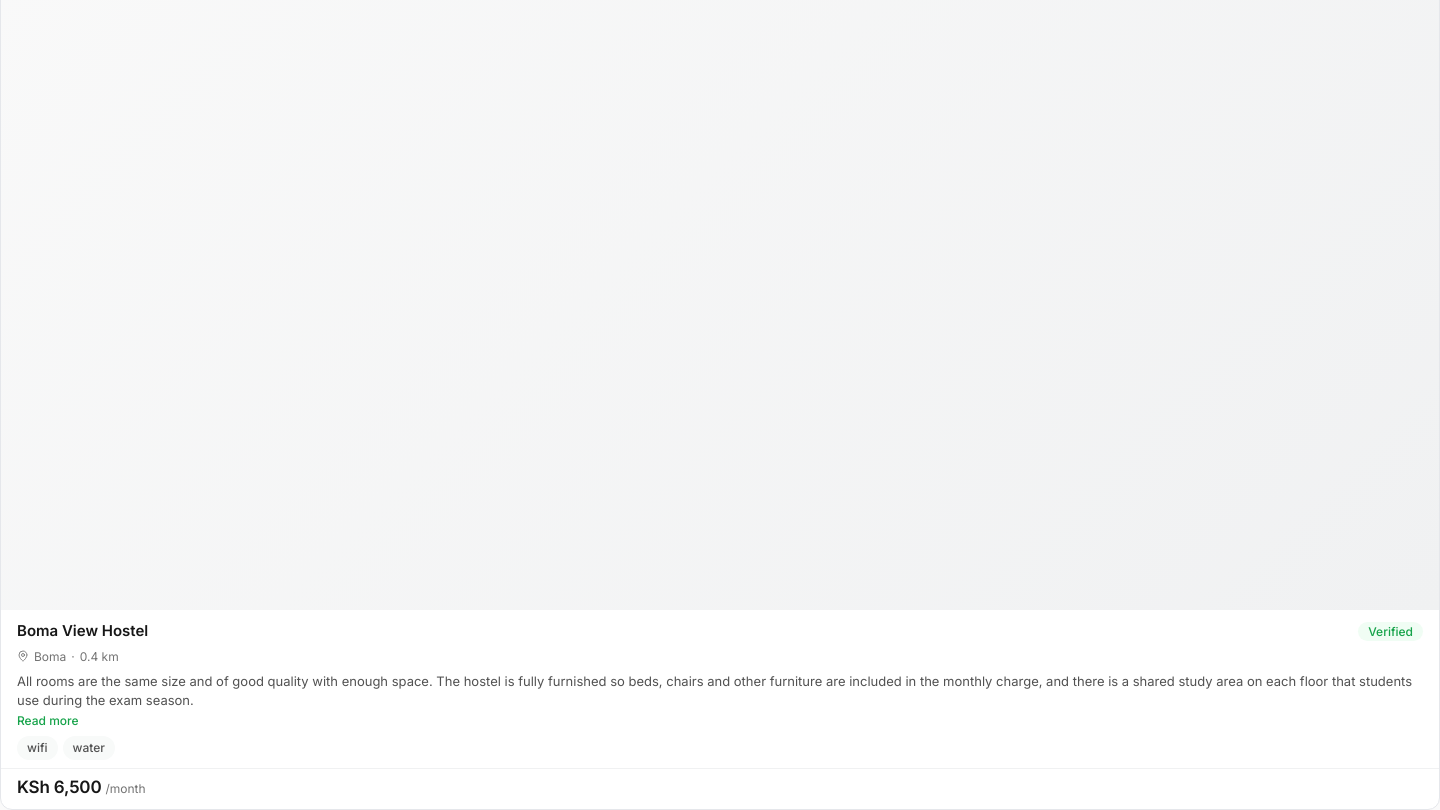
Test: HostelCard › collapses a long description behind a read-more toggle
(page scrolled)
What coordinates should you click on to do the following:
click the button "Read more"
I would click on:
 (48, 721)
Its box is x1=17 y1=713 x2=79 y2=728.
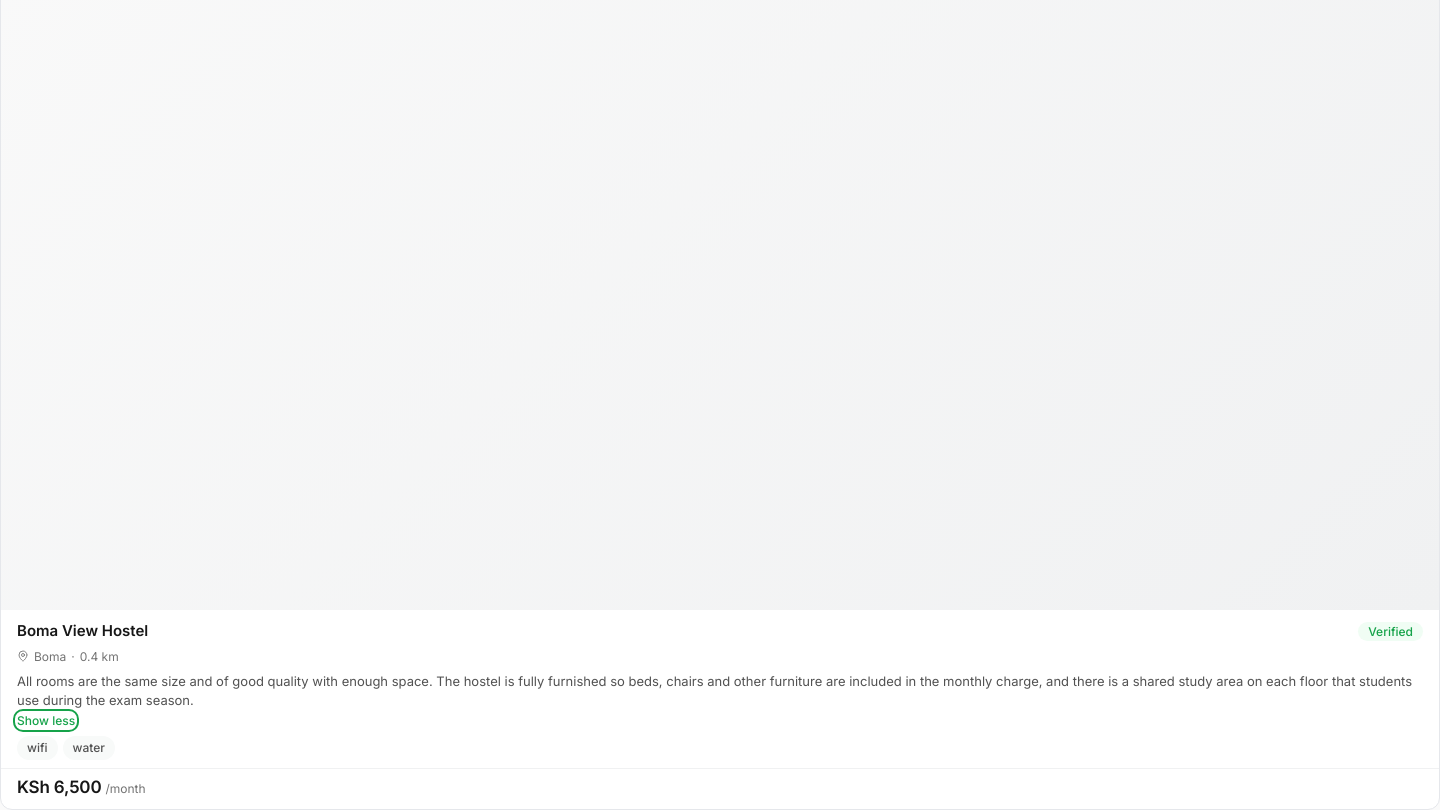
Expected: the button "Show less" is shown, x1=17 y1=713 x2=75 y2=728
